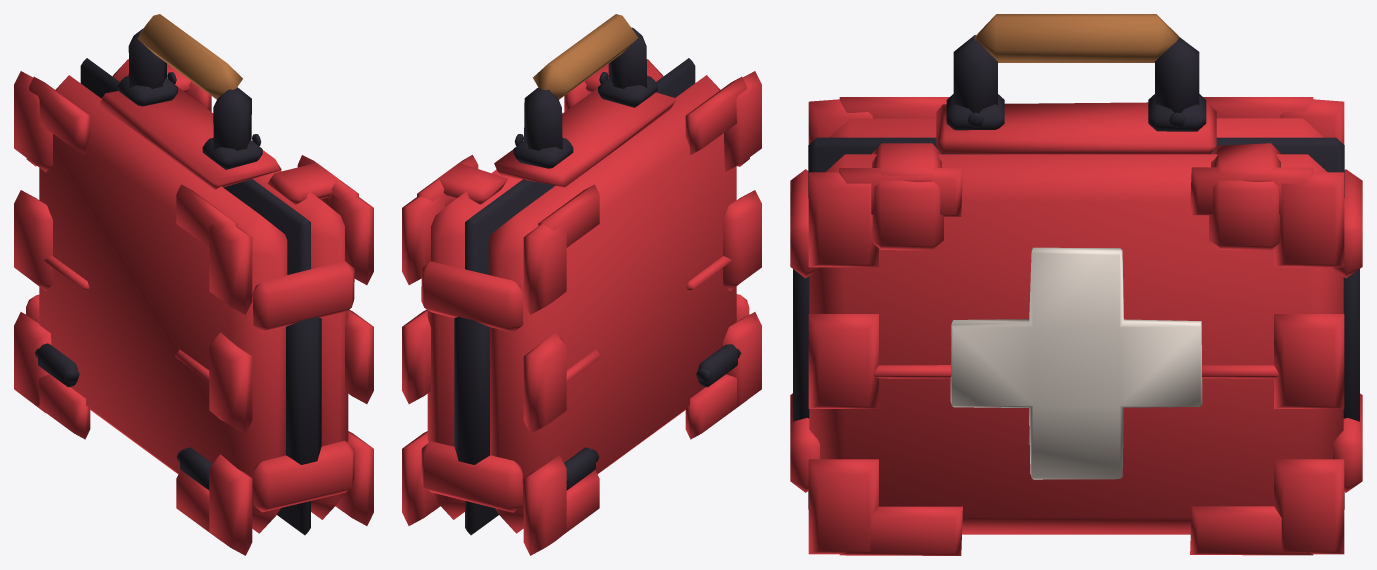
3 views of the same model, side by side, from view 1: azimuth 30°, elevation 25°; view 2: azimuth 150°, elevation 25°; view 3: azimuth 270°, elevation 25° (orthographic). The views are drawn at different scales.
Visible parts, largest first — view 1: body_pal_survivorRed, lid_pal_survivorRed, body_pal_uiDark, handle_pal_woodWarm, handle_pal_uiDark; view 2: body_pal_survivorRed, lid_pal_survivorRed, body_pal_uiDark, handle_pal_woodWarm, handle_pal_uiDark; view 3: lid_pal_survivorRed, lid_pal_picketWhite, body_pal_survivorRed, body_pal_uiDark, handle_pal_woodWarm, handle_pal_uiDark.
Part boxes in pixels (x1,y1,x2,y2): body_pal_survivorRed: [14, 71, 354, 555]; lid_pal_survivorRed: [112, 59, 373, 525]; body_pal_uiDark: [35, 58, 321, 535]; handle_pal_woodWarm: [137, 14, 242, 99]; handle_pal_uiDark: [128, 28, 251, 150]; body_pal_survivorRed: [421, 71, 761, 555]; lid_pal_survivorRed: [402, 59, 663, 525]; body_pal_uiDark: [454, 58, 741, 535]; handle_pal_woodWarm: [533, 14, 638, 99]; handle_pal_uiDark: [524, 27, 647, 150]; lid_pal_survivorRed: [808, 143, 1344, 555]; lid_pal_picketWhite: [950, 247, 1202, 479]; body_pal_survivorRed: [790, 97, 1362, 492]; body_pal_uiDark: [793, 94, 1359, 509]; handle_pal_woodWarm: [974, 14, 1178, 62]; handle_pal_uiDark: [953, 35, 1199, 113].
Size of the model in its own units: 0.2655 by 0.7305 by 0.75.
